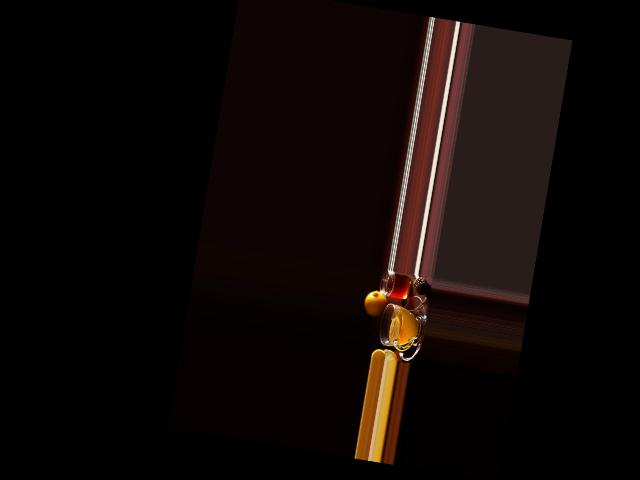lemon: (361, 287, 390, 322)
